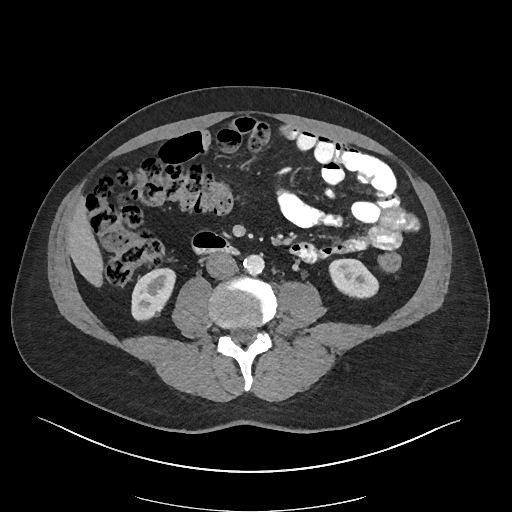Lesion: (149, 308, 163, 318)
